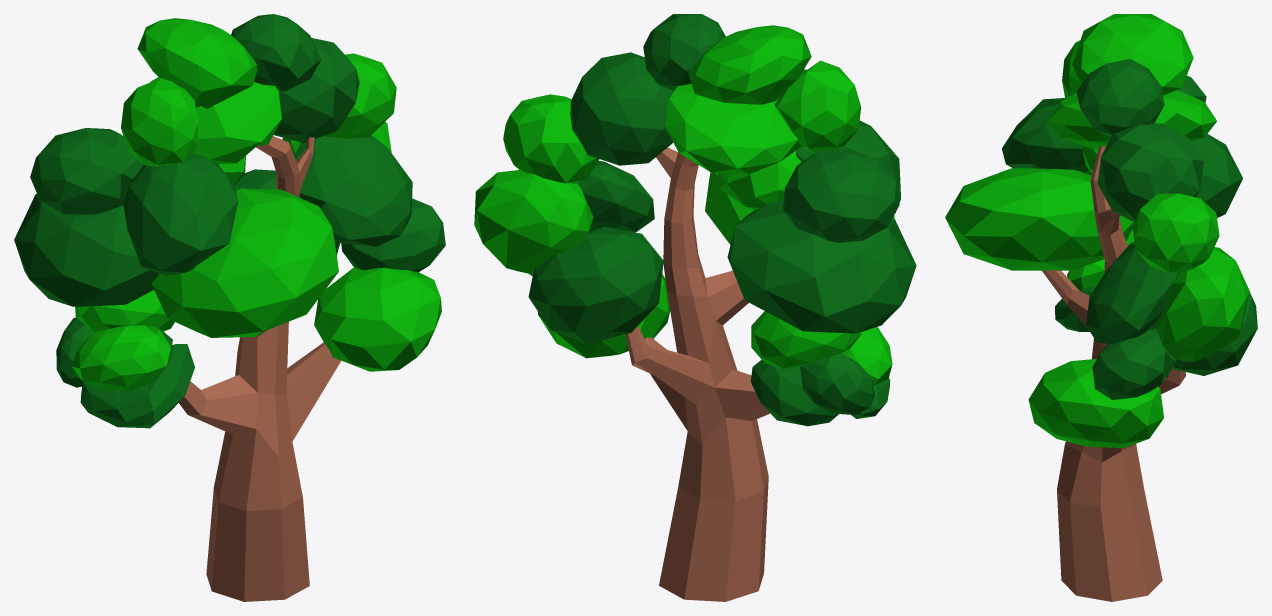
Rendered from pohon poly.fbx.
3 renders of one model, left to right at view 1: azimuth 30°, elevation 25°; view 2: azimuth 150°, elevation 25°; view 3: azimuth 270°, elevation 25°, orthographic. The views are drawn at different scales.
Visible parts, largest first — view 1: Oak; view 2: Oak; view 3: Oak.
Part boxes in pixels (x1,y1,x2,y2): Oak: [14, 14, 445, 601]; Oak: [474, 14, 916, 601]; Oak: [945, 14, 1257, 601].
Bounding box in the file's own units: 396 × 531 × 284.
